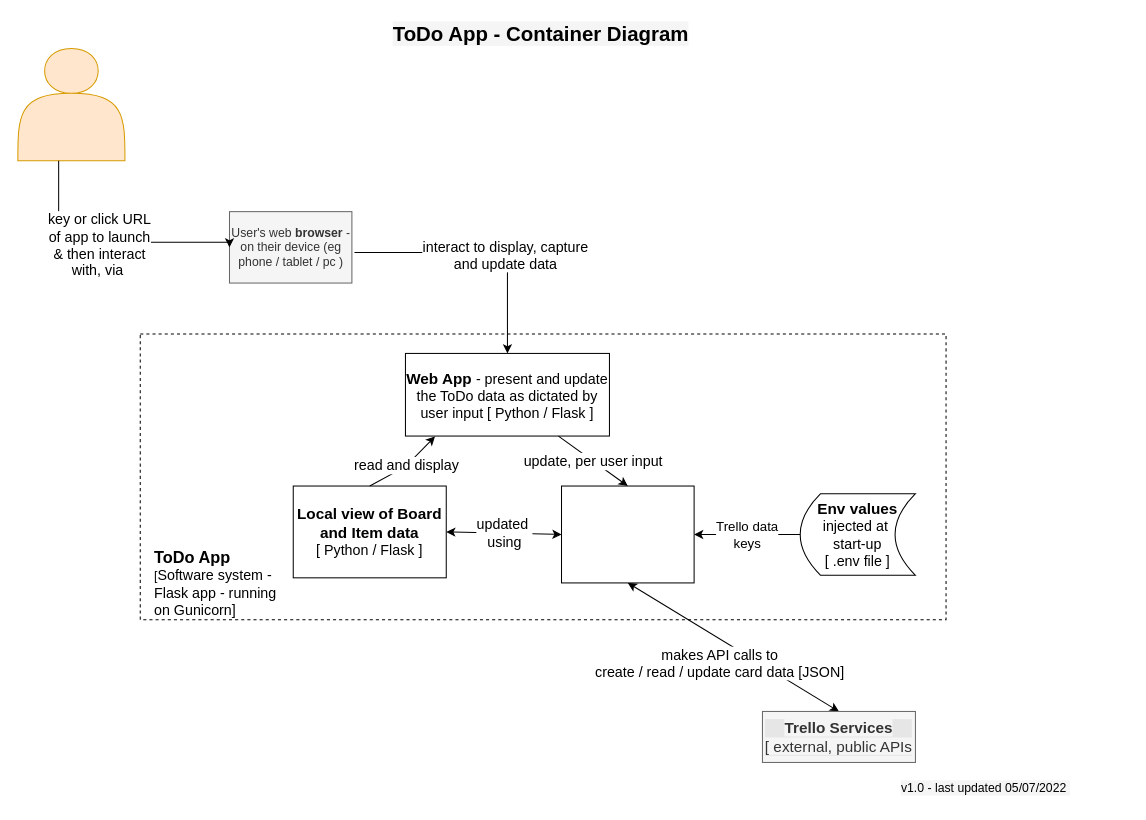
Some shapes in this 1146 by 820 pixel diagram are drawn without their labels. Here are the shapes that lost their labels. From the top down, the box of each, then its label:
(17, 47, 125, 161): User - a person wanting to use this app
(560, 485, 694, 583): Trello API consumer components [ Python / Flask ]
